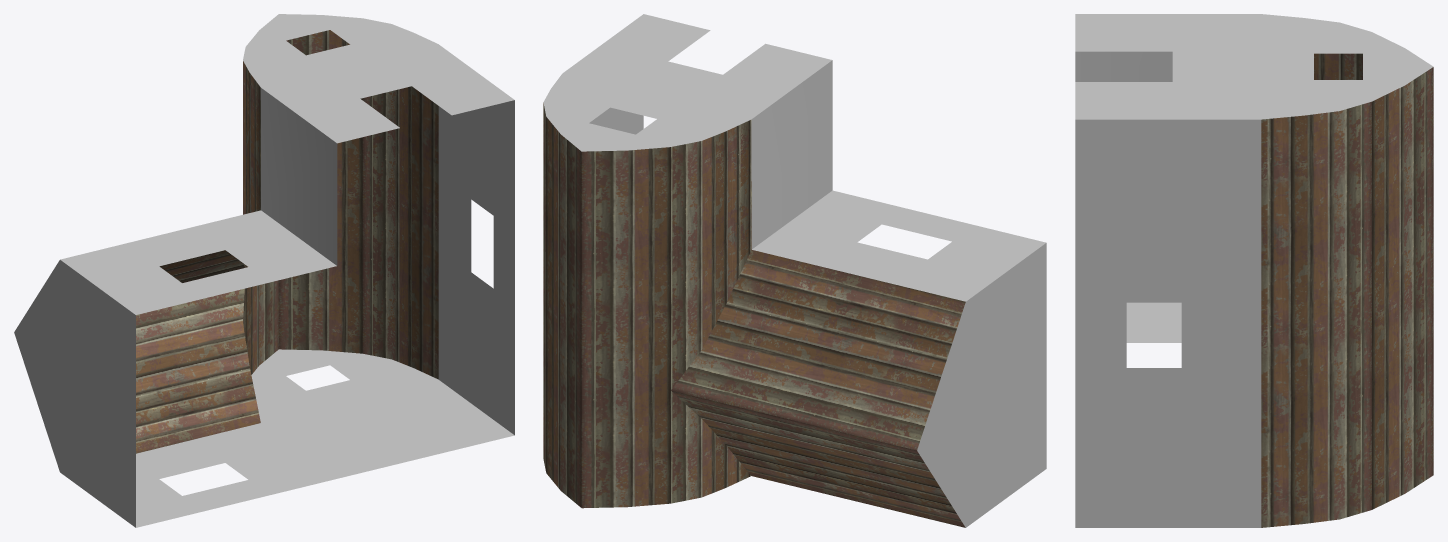
File: Pirate_House_Exterior_Type02_D.fbx
3 views of the same model, side by side, from view 1: azimuth 30°, elevation 25°; view 2: azimuth 150°, elevation 25°; view 3: azimuth 270°, elevation 25° (orthographic). The views are drawn at different scales.
Parts seen in each view (by area): view 1: Pirate_House_Exterior_Type02_D; view 2: Pirate_House_Exterior_Type02_D; view 3: Pirate_House_Exterior_Type02_D.
Part boxes in pixels (x1,y1,x2,y2): Pirate_House_Exterior_Type02_D: (14, 14, 514, 527); Pirate_House_Exterior_Type02_D: (543, 14, 1046, 527); Pirate_House_Exterior_Type02_D: (1075, 14, 1433, 527).
Bounding box in the file's own units: 11.58 × 9.8 × 7.79.
